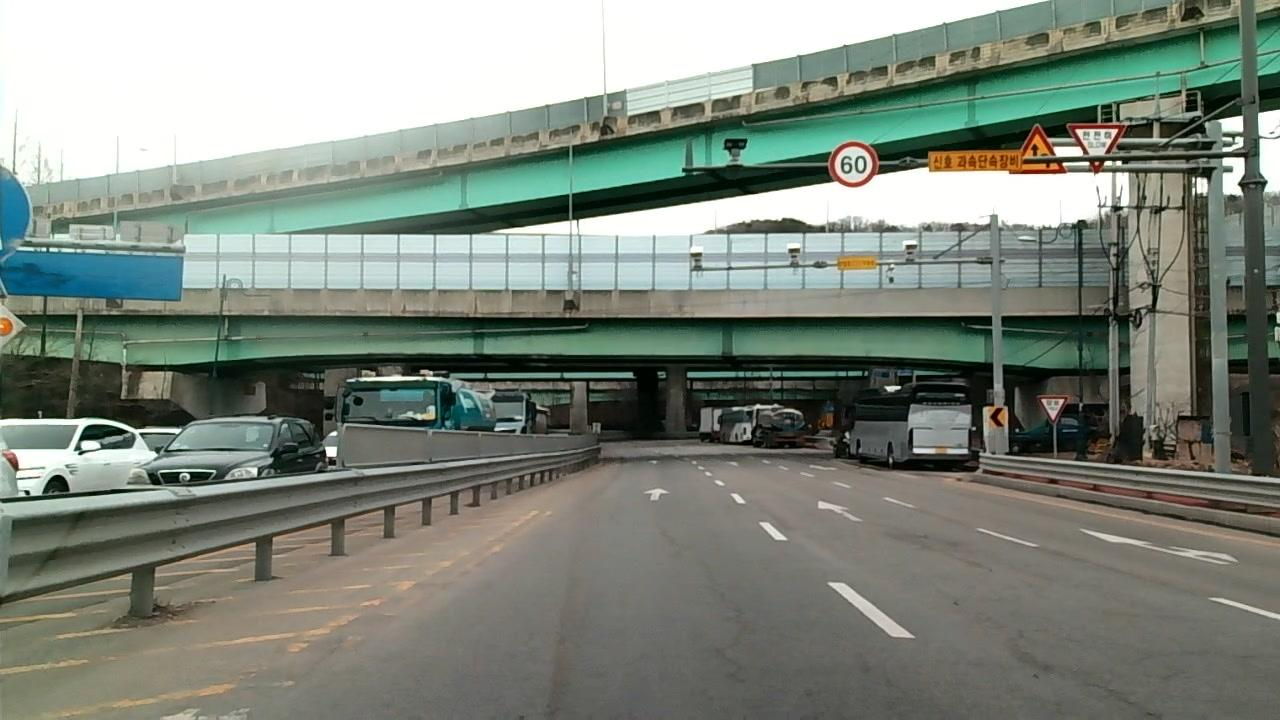vcrack: (706, 574, 748, 684)
